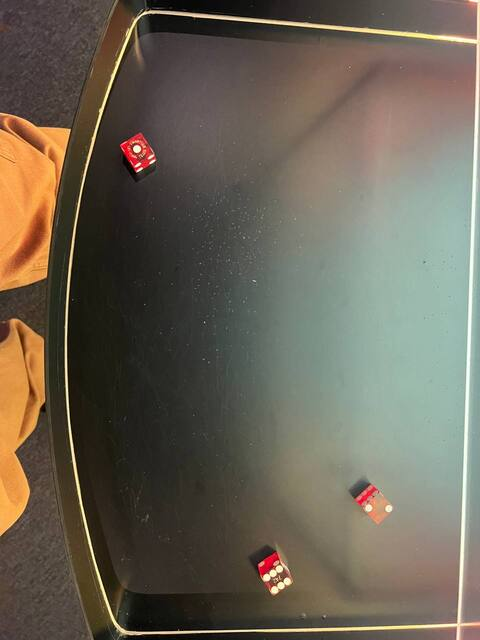one: (119, 133, 150, 163)
six: (257, 562, 294, 600)
two: (360, 490, 396, 528)
